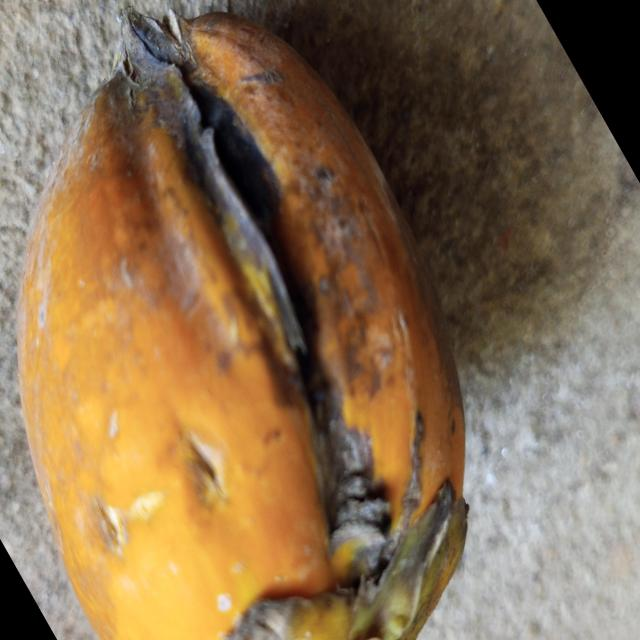damaged: (19, 6, 466, 640)
